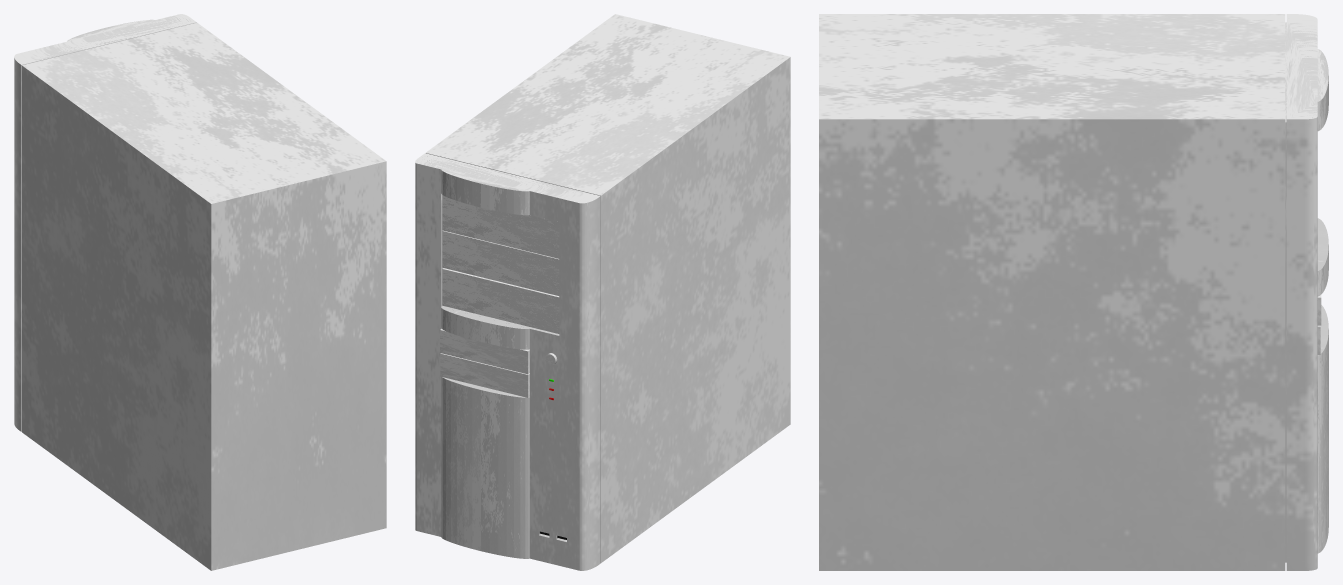
File: case_with_USB_a.fbx
3 renders of one model, left to right at view 1: azimuth 30°, elevation 25°; view 2: azimuth 150°, elevation 25°; view 3: azimuth 270°, elevation 25°, orthographic. The views are drawn at different scales.
Parts seen in each view (by area): view 1: case; view 2: case, CD-Rom.002, CD-Rom.001, CD-Rom.003, Floppy block, Floppy block.001; view 3: case.
Part boxes in pixels (bbox=[...]): case: bbox=[14, 14, 386, 570]; case: bbox=[415, 14, 790, 570]; CD-Rom.002: bbox=[442, 268, 559, 333]; CD-Rom.001: bbox=[442, 230, 559, 295]; CD-Rom.003: bbox=[442, 195, 559, 258]; Floppy block: bbox=[440, 353, 529, 397]; Floppy block.001: bbox=[440, 329, 529, 374]; case: bbox=[819, 14, 1328, 570].
Bounding box in the file's own units: 20 × 40 × 40.91.
6 materials, 6 textured.
